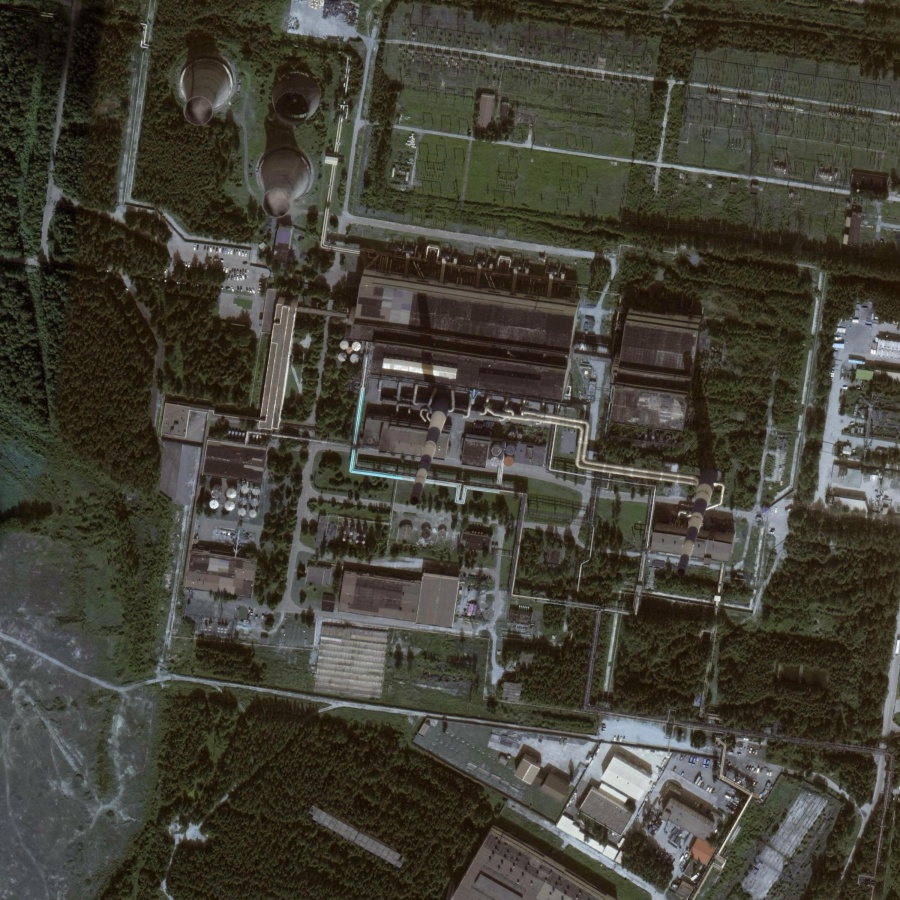PowerPlant: (363, 272, 721, 592)
